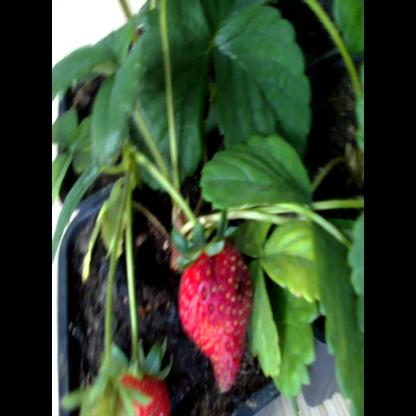ripe: (179, 213, 257, 393), (114, 358, 173, 416)
